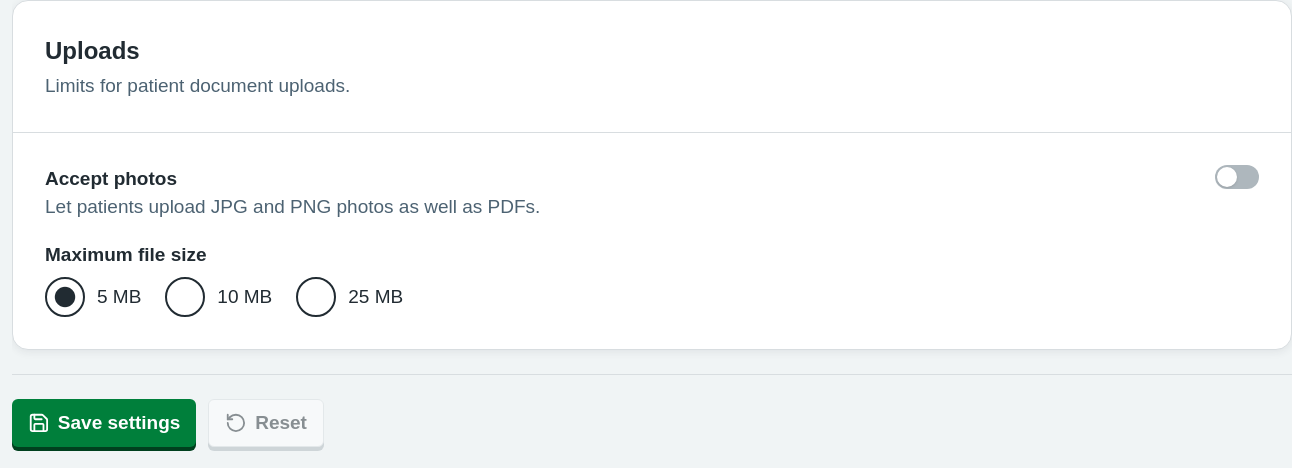
Test: IntakeSettingsForm › loads the saved settings, and Save sends the change to the API and shows "Settings saved"
The width and height of the screenshot is (1292, 468).
Expected: the radio button labelled "5 MB" is checked, x1=45 y1=277 x2=85 y2=317
Expected: the switch named "Accept photos" is not checked, x1=1215 y1=165 x2=1259 y2=189
Click the radio button labelled "25 MB".
click(316, 297)  # box x1=296 y1=277 x2=336 y2=317
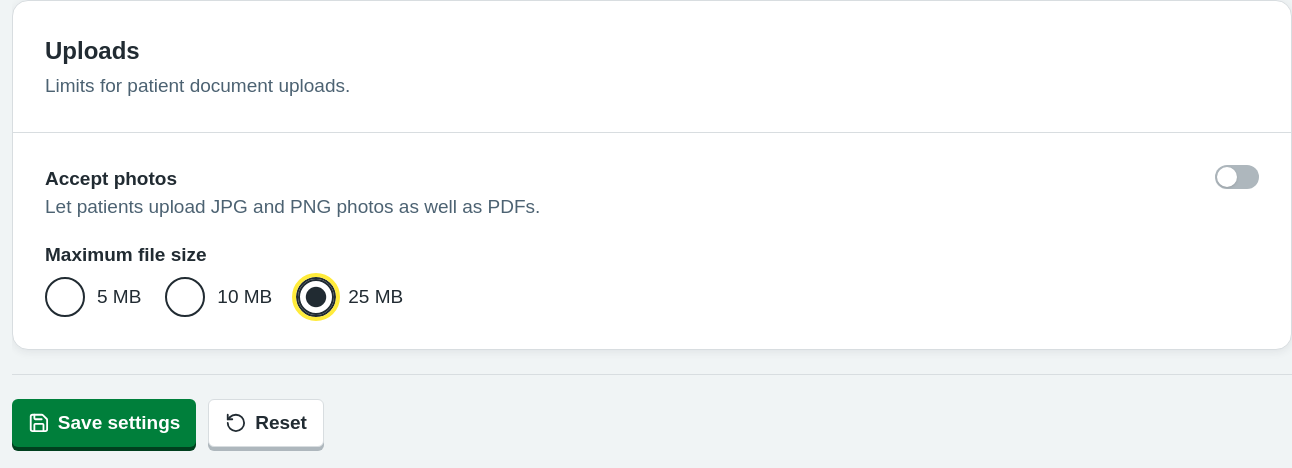
Click the button "Save settings".
click(104, 423)  # box x1=12 y1=399 x2=196 y2=447
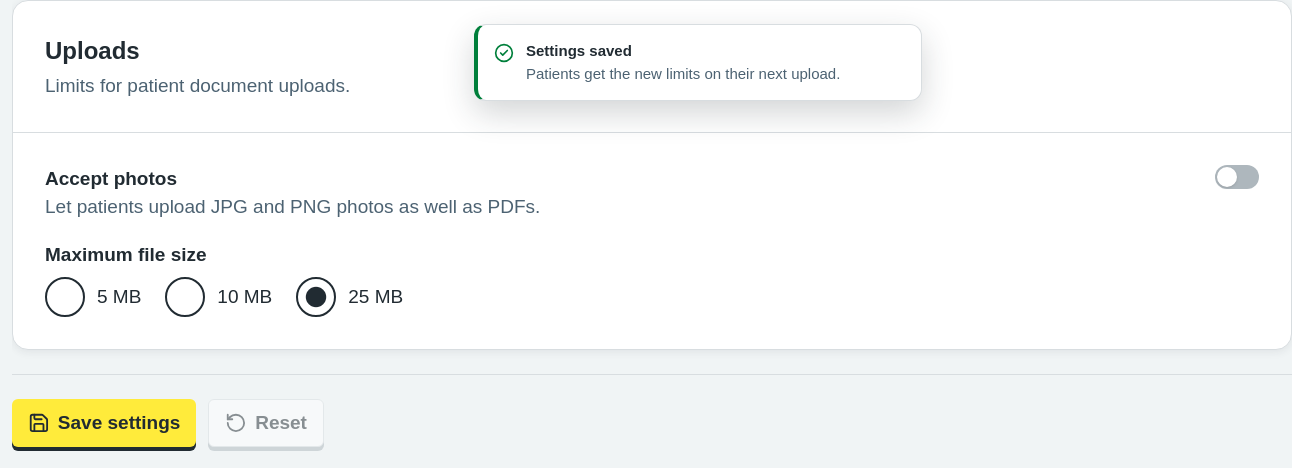
Expected: the text "Settings saved" is shown, x1=526 y1=42 x2=632 y2=59
Expected: the button "Reset" is disabled, x1=208 y1=399 x2=324 y2=447
